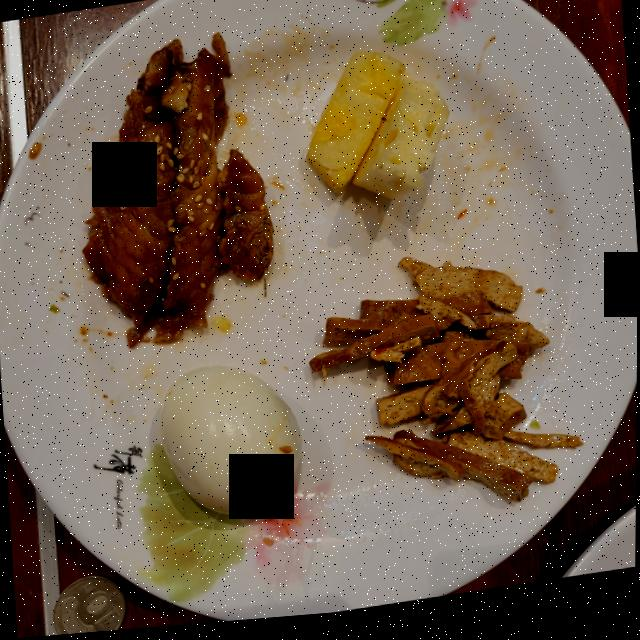Kabayaki sea bream fillet: (83, 36, 274, 349)
coin: (54, 577, 127, 636)
firm tofu: (309, 264, 579, 509)
pineapple: (307, 57, 449, 205)
